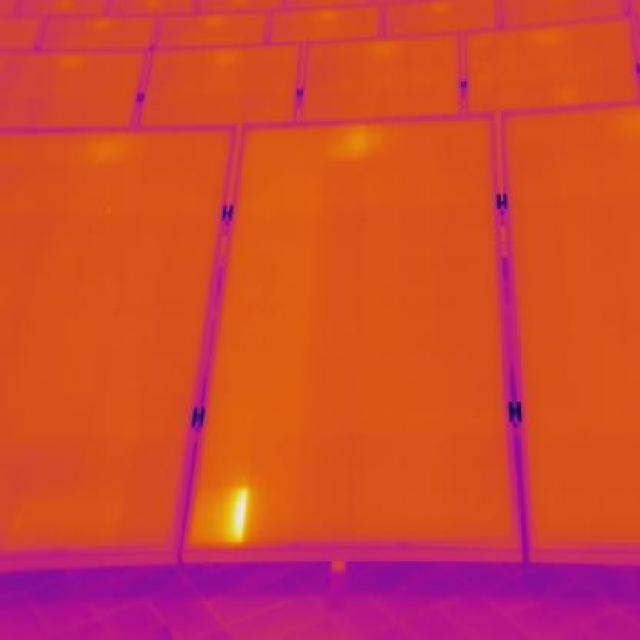hotspot: (190, 485, 252, 558)
